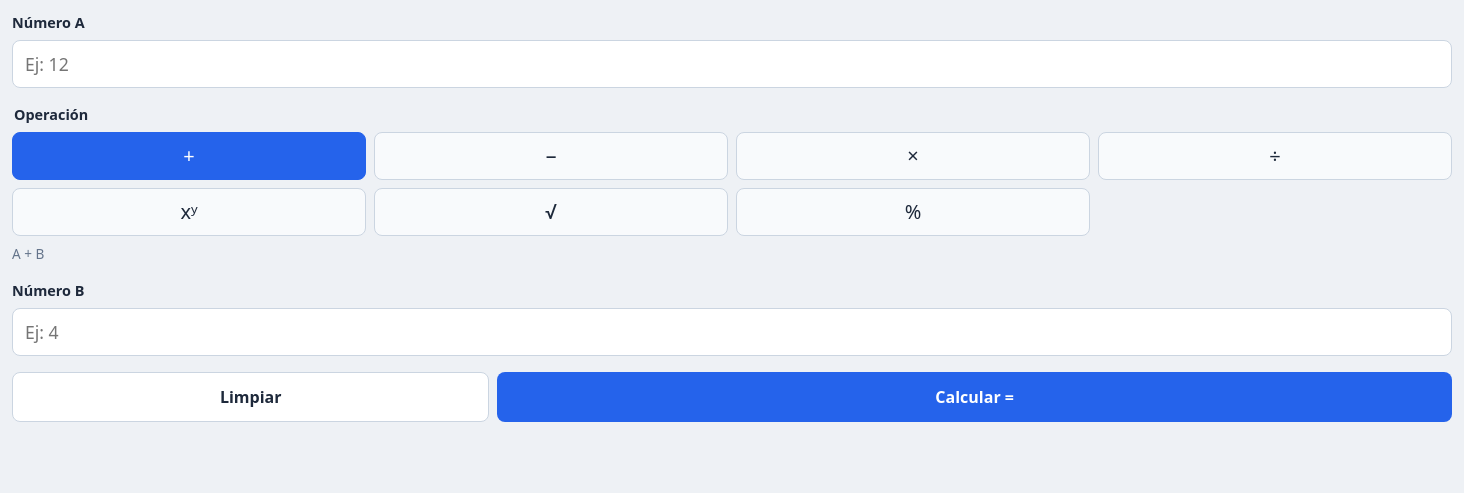
CalculatorForm › no manda nada y marca los campos si están vacíos
Click the button "Calcular =". click: click(975, 397)
box: 497,372 -> 1452,422
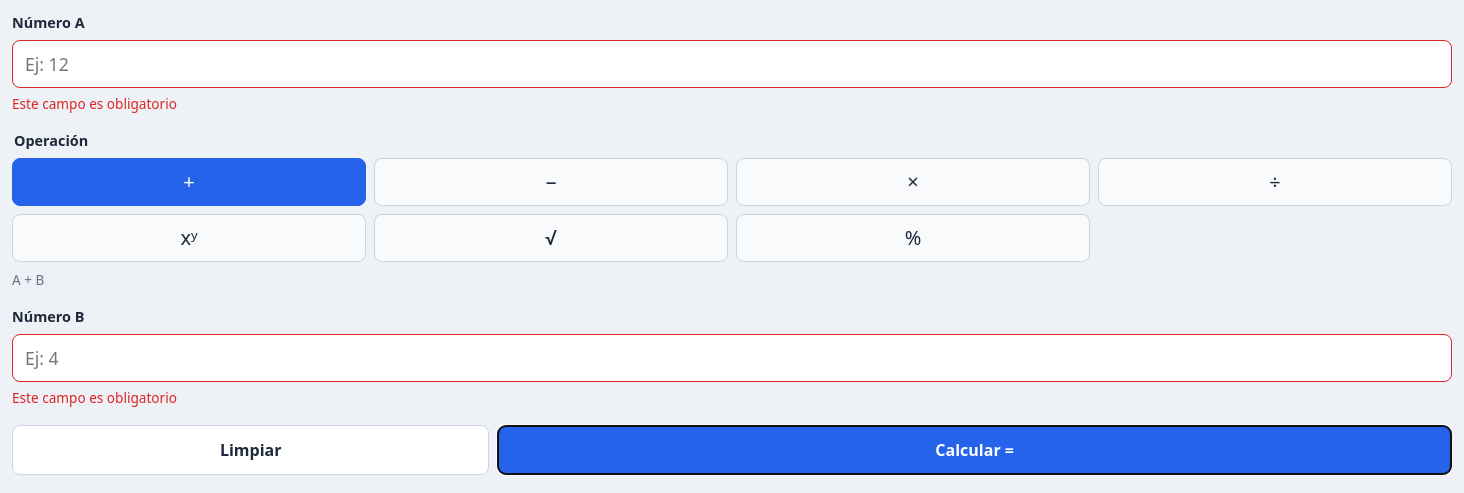
expect the text "Este campo es obligatorio" is shown 2 times: met, box 12,94 -> 177,113; 12,388 -> 177,407
